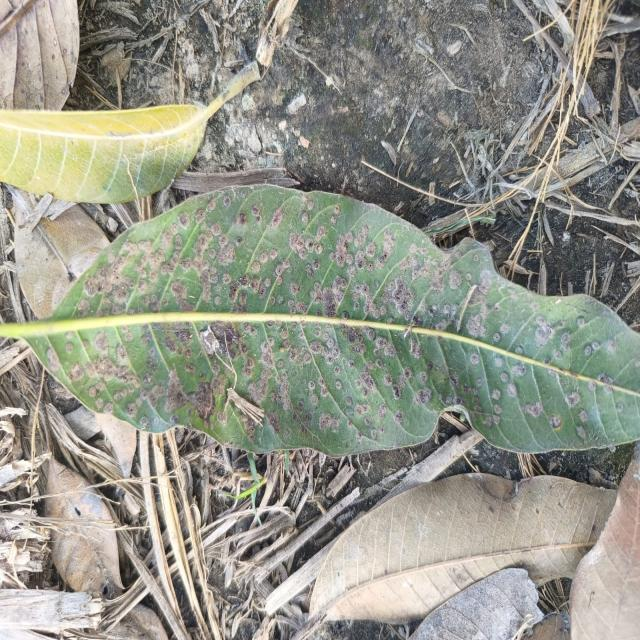gall midge: (179, 212, 338, 361)
